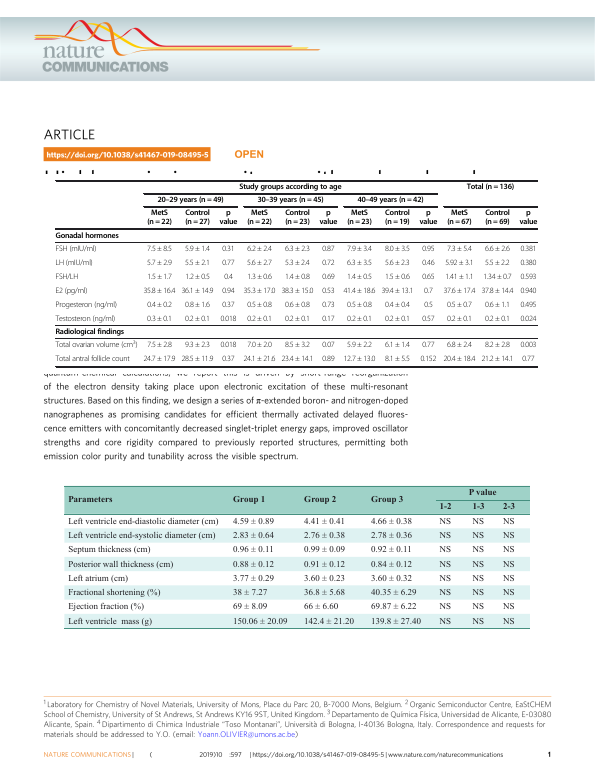borderless: (54, 179, 537, 366), (63, 484, 530, 628)
cell: (66, 517, 219, 527), (66, 531, 216, 541), (66, 560, 174, 570), (66, 588, 161, 598), (238, 183, 342, 192), (66, 545, 151, 556), (55, 339, 138, 350), (66, 617, 152, 627), (66, 602, 144, 613), (256, 196, 325, 206), (55, 355, 131, 364), (156, 196, 224, 206), (356, 196, 424, 206), (55, 231, 120, 241), (55, 300, 118, 310), (55, 328, 125, 337), (66, 574, 128, 584), (55, 314, 116, 324), (232, 617, 288, 627), (370, 602, 417, 613), (146, 209, 173, 228), (184, 209, 211, 228), (246, 209, 273, 228), (284, 209, 311, 228), (346, 209, 373, 228), (384, 209, 411, 228), (446, 209, 473, 228), (484, 209, 511, 228), (303, 617, 354, 627), (370, 617, 421, 627), (370, 588, 417, 598), (232, 545, 274, 556), (303, 545, 345, 556), (370, 545, 412, 556), (67, 496, 113, 506), (466, 183, 515, 192), (232, 517, 274, 527), (303, 517, 345, 527), (370, 517, 412, 527), (232, 531, 274, 541), (303, 531, 345, 541), (370, 531, 412, 541), (232, 560, 274, 570), (303, 560, 345, 570), (370, 560, 412, 570), (232, 574, 274, 584), (303, 574, 345, 584), (370, 574, 412, 584), (303, 588, 345, 598), (55, 244, 97, 254), (232, 602, 268, 613), (303, 602, 339, 613), (55, 258, 94, 268), (318, 209, 338, 228), (418, 209, 438, 228), (518, 209, 538, 228), (219, 209, 238, 228), (232, 588, 268, 598), (369, 496, 404, 506), (232, 496, 266, 506), (303, 496, 337, 506), (142, 286, 176, 296), (180, 286, 214, 296), (242, 286, 276, 296), (280, 286, 314, 296), (342, 286, 376, 296), (380, 286, 414, 296), (442, 286, 476, 296), (480, 286, 514, 296), (55, 286, 88, 296), (444, 272, 475, 282), (482, 272, 513, 282), (142, 355, 176, 364), (180, 355, 214, 364), (242, 355, 276, 364), (280, 355, 314, 364), (342, 355, 376, 364), (442, 355, 476, 364), (480, 355, 514, 364), (467, 489, 497, 499), (444, 258, 474, 268), (146, 244, 173, 254), (184, 244, 211, 254), (246, 244, 273, 254), (284, 244, 311, 254), (346, 244, 373, 254), (384, 244, 411, 254), (446, 244, 473, 254), (484, 244, 511, 254), (146, 258, 173, 268), (184, 258, 211, 268), (246, 258, 273, 268), (284, 258, 311, 268), (346, 258, 373, 268), (384, 258, 411, 268), (484, 258, 511, 268), (146, 272, 173, 282), (184, 272, 211, 282), (246, 272, 273, 282), (284, 272, 311, 282), (346, 272, 373, 282), (384, 272, 411, 282), (146, 300, 173, 310), (184, 300, 211, 310), (246, 300, 273, 310), (284, 300, 311, 310), (346, 300, 373, 310), (384, 300, 411, 310), (446, 300, 473, 310), (484, 300, 511, 310), (146, 314, 173, 324), (184, 314, 211, 324), (246, 314, 273, 324), (284, 314, 311, 324), (346, 314, 373, 324), (384, 314, 411, 324), (446, 314, 473, 324), (484, 314, 511, 324), (146, 341, 173, 350), (184, 341, 211, 350), (246, 341, 273, 350), (284, 341, 311, 350), (346, 341, 373, 350), (384, 341, 411, 350), (446, 341, 473, 350), (484, 341, 511, 350), (384, 355, 411, 364), (55, 272, 79, 282), (519, 244, 537, 254), (519, 258, 537, 268), (519, 272, 537, 282), (519, 286, 537, 296), (519, 300, 537, 310), (219, 314, 237, 324), (519, 314, 537, 324), (219, 341, 237, 350), (519, 341, 537, 350), (419, 355, 437, 364), (438, 545, 452, 556), (471, 545, 485, 556), (438, 602, 452, 613), (471, 602, 485, 613), (221, 244, 236, 254), (321, 244, 336, 254), (321, 272, 336, 282), (421, 272, 436, 282), (321, 286, 336, 296), (221, 300, 236, 310), (321, 300, 336, 310), (321, 314, 336, 324), (502, 545, 515, 556), (502, 602, 515, 613), (438, 503, 452, 513), (471, 503, 485, 513), (501, 503, 515, 513), (438, 517, 452, 527), (471, 517, 485, 527), (438, 531, 452, 541), (471, 531, 485, 541), (438, 560, 452, 570), (471, 560, 485, 570), (438, 574, 452, 584), (471, 574, 485, 584), (438, 588, 452, 598), (471, 588, 485, 598), (438, 617, 452, 627), (471, 617, 485, 627), (421, 244, 435, 254), (221, 258, 235, 268), (321, 258, 335, 268), (421, 258, 435, 268), (221, 286, 235, 296), (421, 314, 435, 324), (321, 341, 336, 350), (321, 355, 336, 364), (502, 517, 515, 527), (502, 531, 515, 541), (502, 560, 515, 570), (502, 574, 515, 584), (502, 588, 515, 598), (502, 617, 515, 627), (421, 341, 435, 350), (221, 355, 235, 364), (521, 355, 535, 364), (223, 272, 234, 282), (423, 286, 434, 296), (423, 300, 434, 310)
